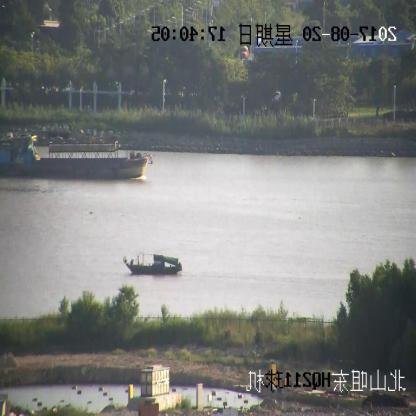Fishing Boat: (1, 135, 153, 183), (124, 252, 182, 275)
